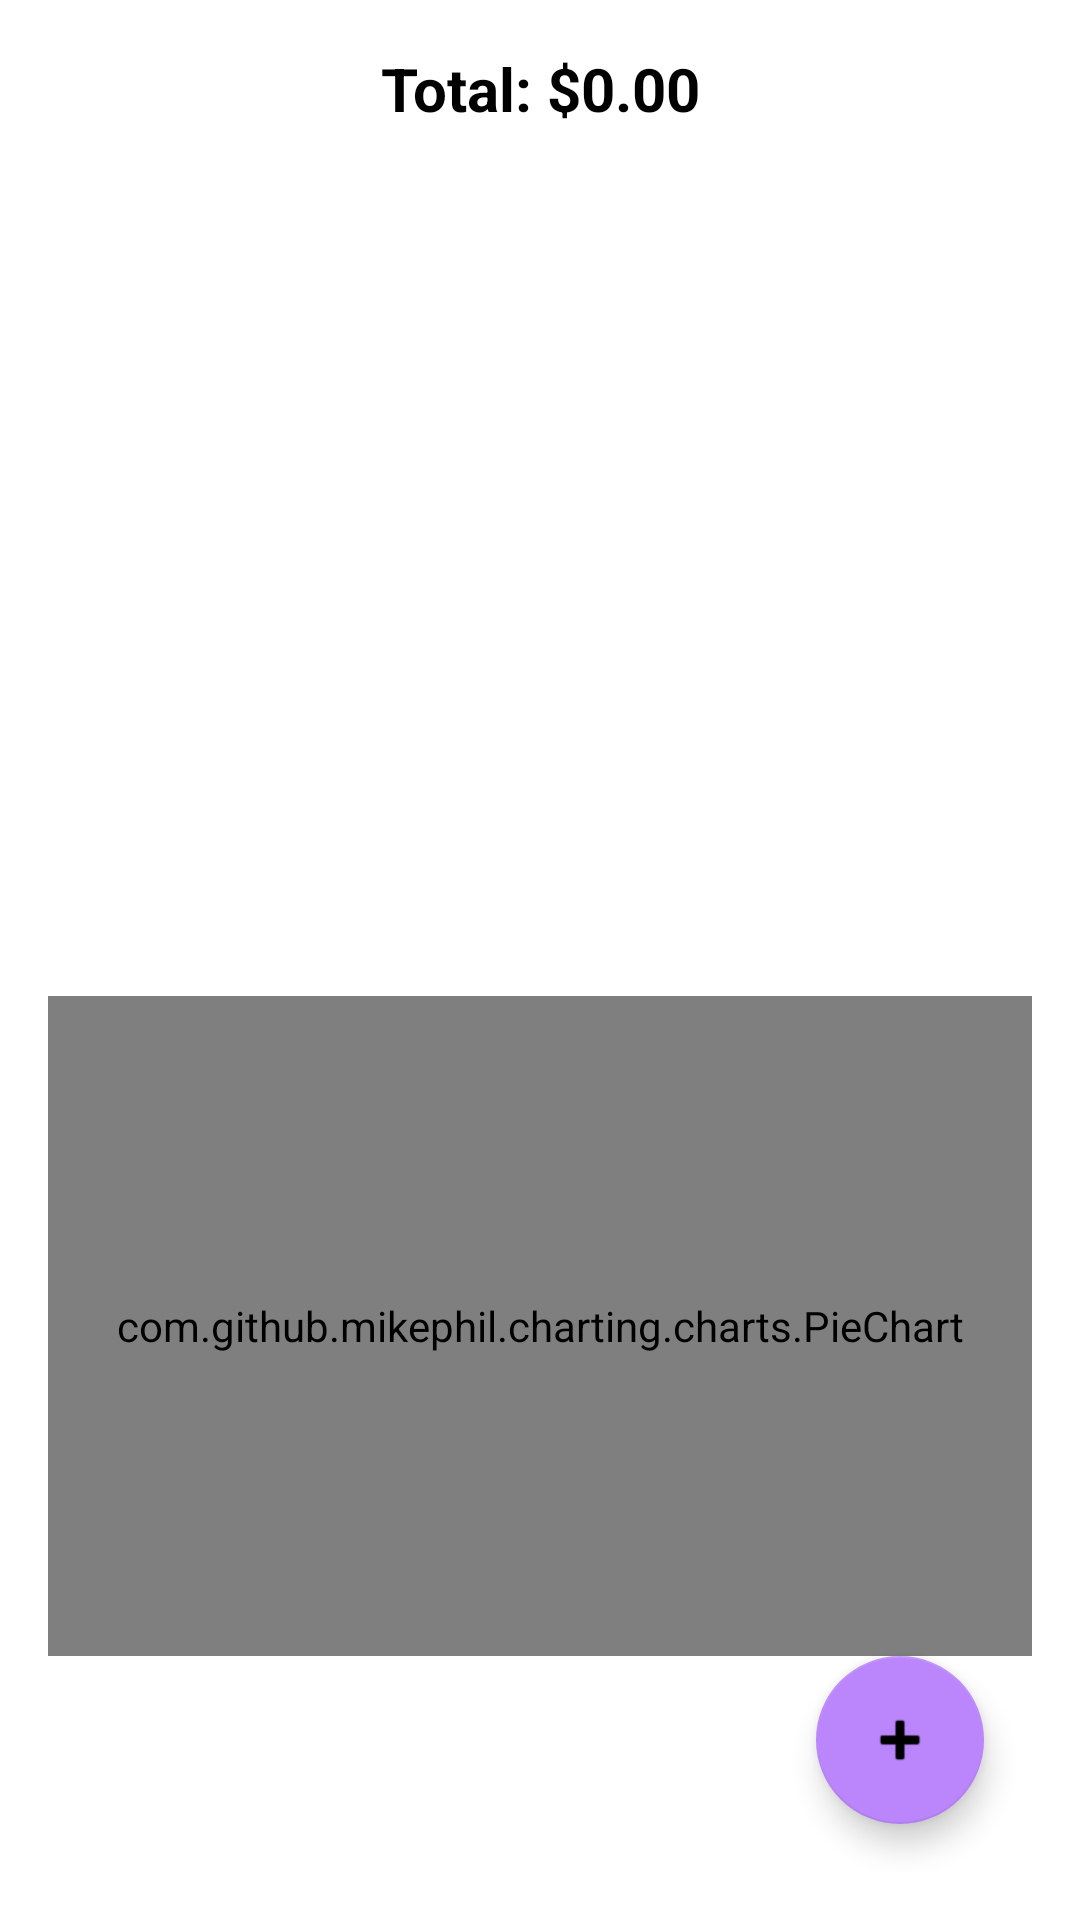

Point at icon controls on the screen. Image size 1080px×1920px, points as (x,y).
Add Expense: (900,1740)
